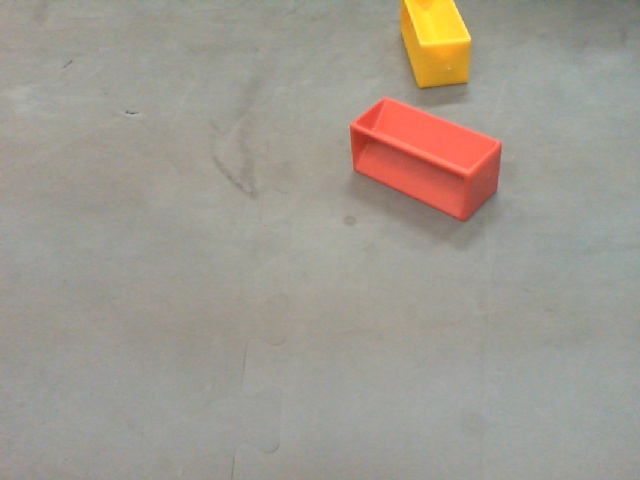RedSample: (343, 97, 506, 223)
YellowSample: (396, 1, 471, 91)
